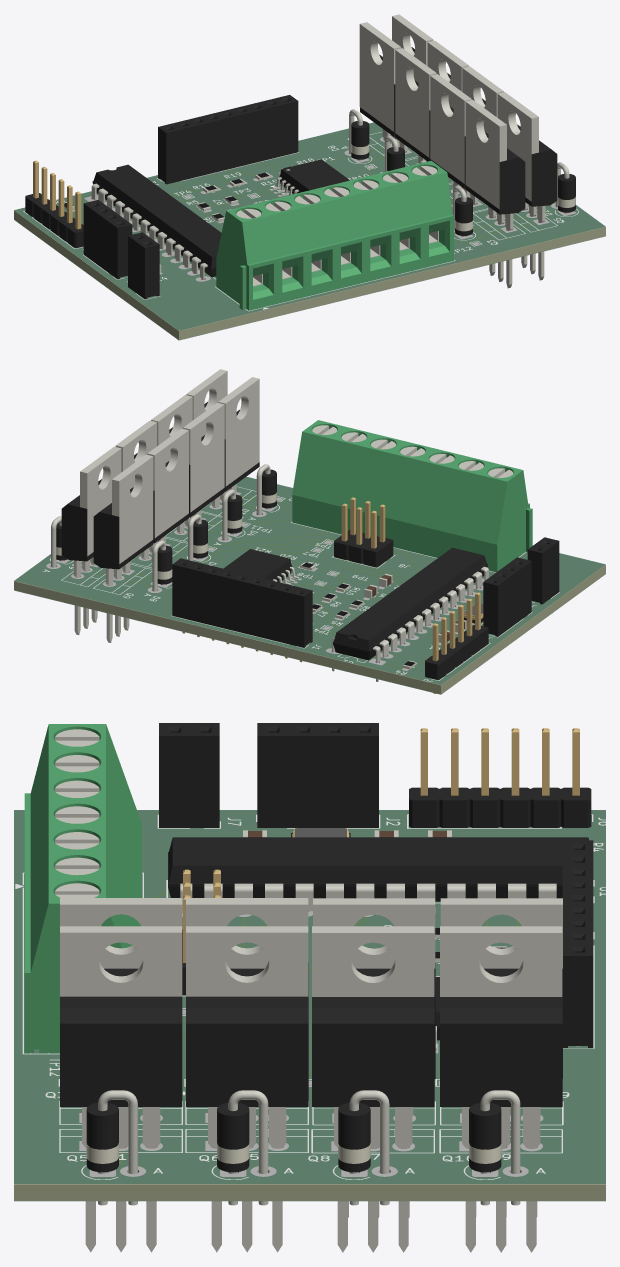
The model's file is light-tracker.glb.
3 views of the same model, one above another, from view 1: azimuth 30°, elevation 25°; view 2: azimuth 150°, elevation 25°; view 3: azimuth 270°, elevation 25° (orthographic). The views are drawn at different scales.
Parts seen in each view (by area): view 1: =>[0:1:1:11], =>[0:1:1:15] (×8), =>[0:1:1:34], =>[0:1:1:32], =>[0:1:1:25], =>[0:1:1:9], =>[0:1:1:3] (×4), =>[0:1:1:27], =>[0:1:1:13], =>[0:1:1:23], =>[0:1:1:31], =>[0:1:1:19] (+2 smaller); view 2: =>[0:1:1:15] (×8), =>[0:1:1:11], =>[0:1:1:34], =>[0:1:1:32], =>[0:1:1:25], =>[0:1:1:9], =>[0:1:1:3] (×5), =>[0:1:1:27], =>[0:1:1:13], =>[0:1:1:17], =>[0:1:1:31], =>[0:1:1:29] (+3 smaller); view 3: =>[0:1:1:15] (×8), =>[0:1:1:34], =>[0:1:1:32], =>[0:1:1:9], =>[0:1:1:11], =>[0:1:1:3] (×4), =>[0:1:1:27], =>[0:1:1:13], =>[0:1:1:25], =>[0:1:1:23], =>[0:1:1:31], =>[0:1:1:29] (+1 smaller).
Boxes of the visible parts, left/top/right/bottom form: =>[0:1:1:11]: left=216, top=160, right=453, bottom=310; =>[0:1:1:15] (×8): left=359, top=14, right=557, bottom=288; =>[0:1:1:34]: left=14, top=123, right=605, bottom=340; =>[0:1:1:32]: left=14, top=122, right=605, bottom=330; =>[0:1:1:25]: left=158, top=95, right=298, bottom=184; =>[0:1:1:9]: left=91, top=164, right=221, bottom=279; =>[0:1:1:3] (×4): left=349, top=109, right=575, bottom=236; =>[0:1:1:27]: left=83, top=200, right=132, bottom=279; =>[0:1:1:13]: left=25, top=160, right=83, bottom=247; =>[0:1:1:23]: left=128, top=232, right=159, bottom=299; =>[0:1:1:31]: left=23, top=131, right=578, bottom=311; =>[0:1:1:19]: left=272, top=159, right=349, bottom=195; =>[0:1:1:15] (×8): left=61, top=369, right=259, bottom=642; =>[0:1:1:11]: left=292, top=420, right=532, bottom=572; =>[0:1:1:34]: left=14, top=477, right=605, bottom=694; =>[0:1:1:32]: left=14, top=476, right=605, bottom=684; =>[0:1:1:25]: left=172, top=558, right=312, bottom=662; =>[0:1:1:9]: left=332, top=547, right=488, bottom=681; =>[0:1:1:3] (×5): left=51, top=464, right=276, bottom=591; =>[0:1:1:27]: left=483, top=557, right=531, bottom=636; =>[0:1:1:13]: left=425, top=592, right=488, bottom=693; =>[0:1:1:17]: left=334, top=497, right=393, bottom=567; =>[0:1:1:31]: left=42, top=486, right=559, bottom=681; =>[0:1:1:29]: left=46, top=492, right=484, bottom=670; =>[0:1:1:15] (×8): left=60, top=898, right=562, bottom=1252; =>[0:1:1:34]: left=14, top=811, right=605, bottom=1200; =>[0:1:1:32]: left=14, top=810, right=605, bottom=1183; =>[0:1:1:9]: left=168, top=837, right=588, bottom=912; =>[0:1:1:11]: left=24, top=724, right=141, bottom=1053; =>[0:1:1:3] (×4): left=86, top=1090, right=520, bottom=1205; =>[0:1:1:27]: left=257, top=723, right=378, bottom=827; =>[0:1:1:13]: left=409, top=728, right=591, bottom=827; =>[0:1:1:25]: left=562, top=840, right=593, bottom=1047; =>[0:1:1:23]: left=159, top=723, right=219, bottom=827; =>[0:1:1:31]: left=15, top=814, right=605, bottom=1179; =>[0:1:1:29]: left=79, top=908, right=580, bottom=1176.
Bounding box in the file's own units: 0.074 × 0.0285 × 0.0495.
